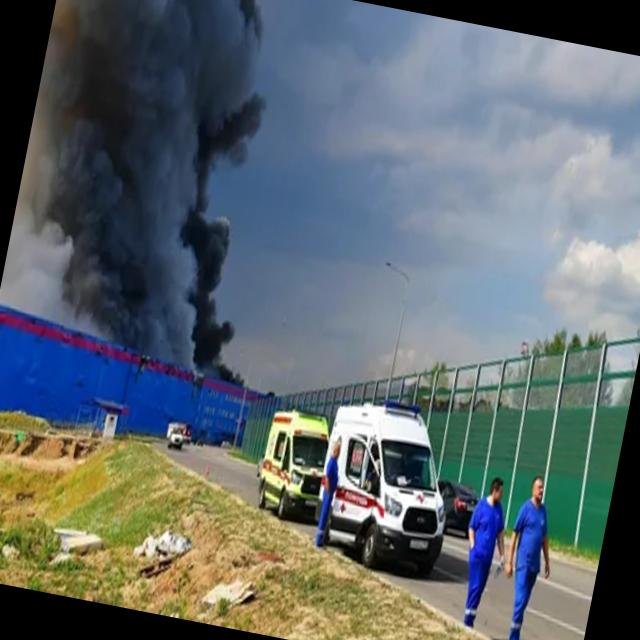Smoke: (0, 0, 325, 389)
